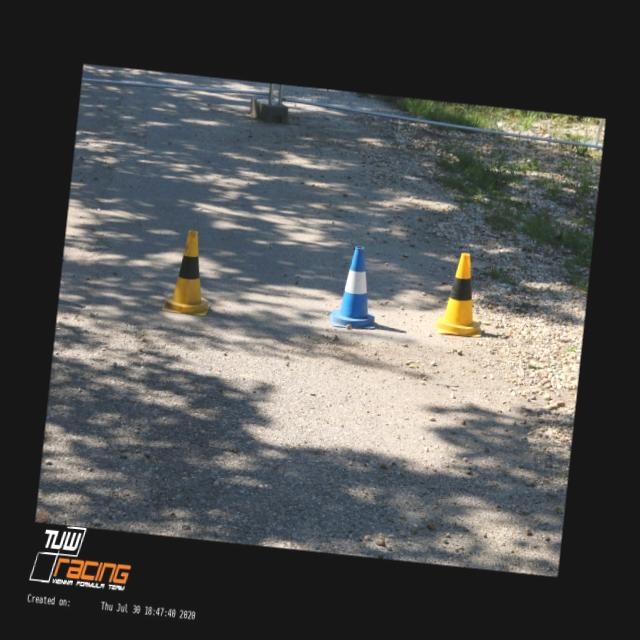blue_cone: (328, 243, 383, 331)
yellow_cone: (160, 228, 218, 316), (433, 249, 489, 337)
